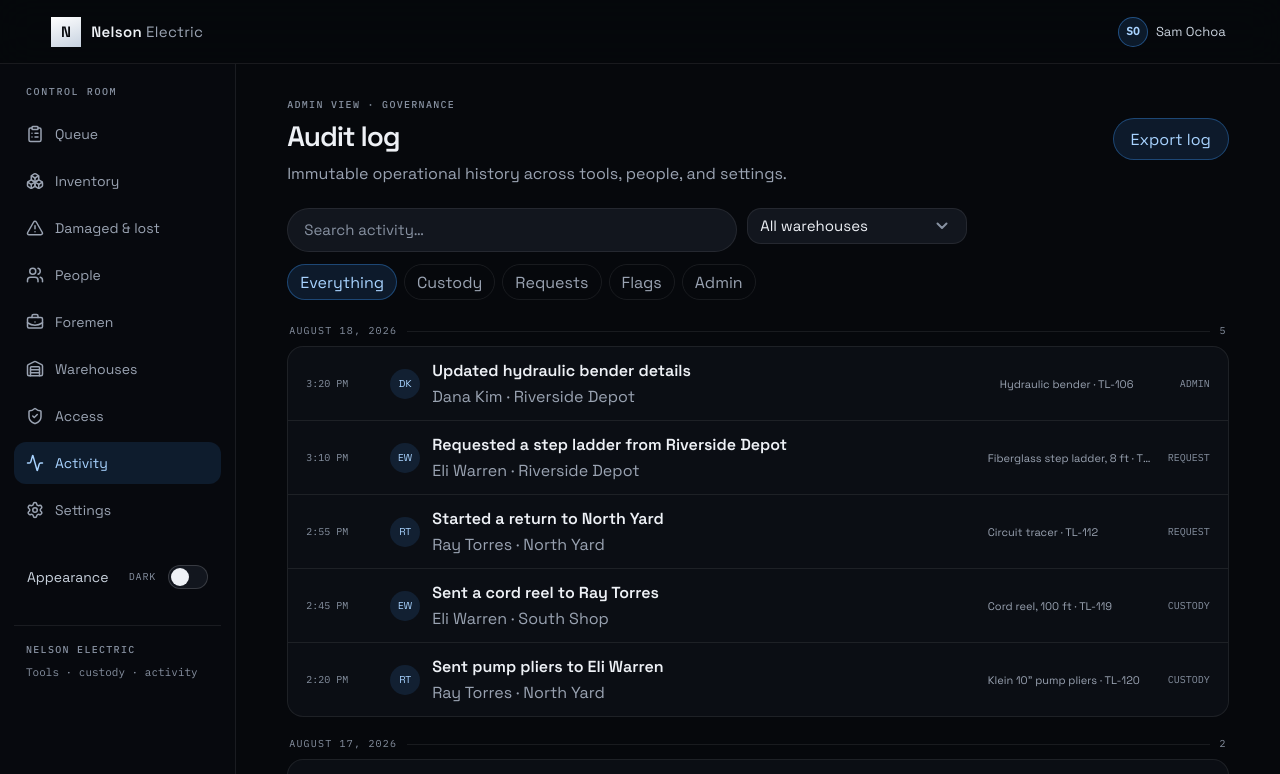
admin activity surface › renders newest-first audit history and filters by tool/action text
Check: the heading "Audit log" is shown, box [287,118,400,154]
Check: the element that starts with "3:20 PM" shows "hydraulic bender", box [1000,377,1091,391]
In the search field labelled "Search audit log": (512, 230) [304,221,720,239], type "Fish tape"
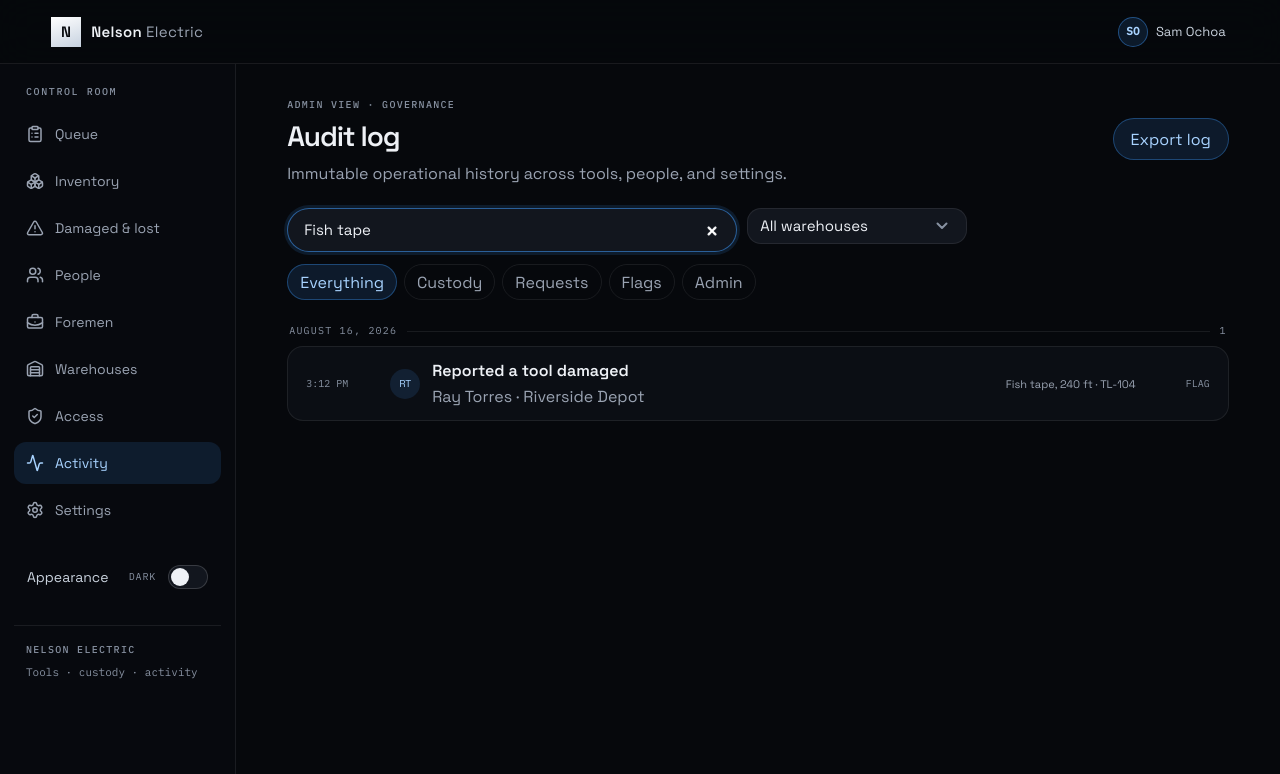
Check: the element that starts with "3:12 PM" shows "Fish tape, 240 ft", box [1006,377,1093,391]
